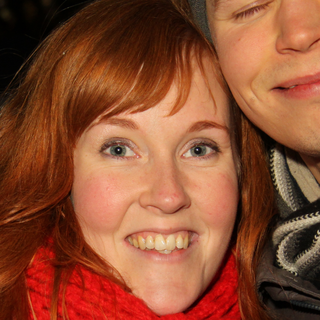eye: (97, 138, 142, 164), (179, 138, 223, 164)
